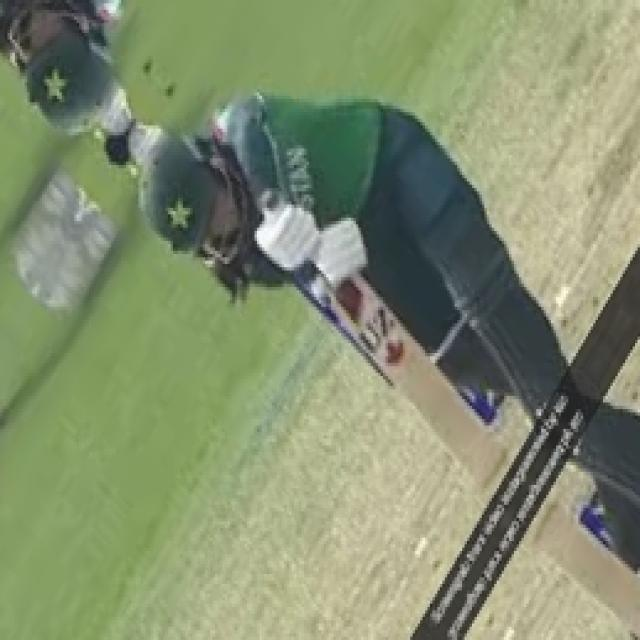bat: (323, 284, 487, 463)
